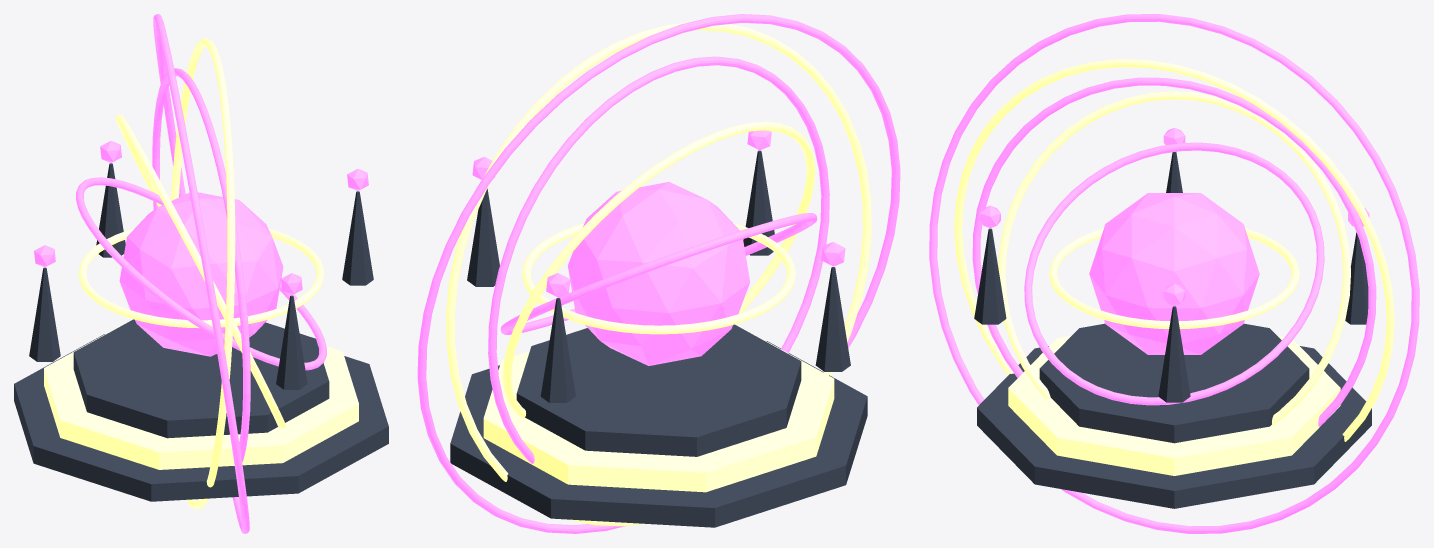
The model's file is gpu-blender-totem.glb.
3 renders of one model, left to right at view 1: azimuth 30°, elevation 25°; view 2: azimuth 150°, elevation 25°; view 3: azimuth 270°, elevation 25°, orthographic. The views are drawn at different scales.
Visible parts, largest first — view 1: Cylinder.002, Cylinder, SovereignCore_chain-of-thoughts, Cylinder.001, Torus.005, Torus.004, Torus.003, Torus.001, Torus, Torus.002, Cone, Cone.003 (+2 smaller); view 2: Cylinder.002, SovereignCore_chain-of-thoughts, Cylinder, Cylinder.001, Torus.005, Torus.004, Torus.003, Torus.002, Torus, Torus.001, Cone.002, Cone.001 (+2 smaller); view 3: SovereignCore_chain-of-thoughts, Cylinder.002, Cylinder, Cylinder.001, Torus.005, Torus.004, Torus.001, Torus.002, Torus.003, Torus, Cone, Cone.003 (+1 smaller).
Part boxes in pixels (bbox=[...]): Cylinder.002: bbox=[73, 319, 329, 438]; Cylinder: bbox=[14, 334, 388, 501]; SovereignCore_chain-of-thoughts: bbox=[119, 192, 283, 356]; Cylinder.001: bbox=[44, 326, 358, 469]; Torus.005: bbox=[153, 14, 249, 533]; Torus.004: bbox=[171, 38, 235, 509]; Torus.003: bbox=[152, 68, 250, 461]; Torus.001: bbox=[76, 177, 326, 370]; Torus: bbox=[78, 228, 324, 328]; Torus.002: bbox=[116, 115, 285, 428]; Cone: bbox=[342, 191, 373, 285]; Cone.003: bbox=[276, 295, 307, 389]; Cylinder.002: bbox=[516, 324, 801, 456]; SovereignCore_chain-of-thoughts: bbox=[568, 182, 749, 365]; Cylinder: bbox=[450, 341, 867, 527]; Cylinder.001: bbox=[483, 332, 834, 492]; Torus.005: bbox=[417, 14, 900, 533]; Torus.004: bbox=[446, 22, 871, 526]; Torus.003: bbox=[488, 56, 829, 463]; Torus.002: bbox=[502, 121, 815, 418]; Torus: bbox=[522, 223, 795, 334]; Torus.001: bbox=[500, 213, 817, 334]; Cone.002: bbox=[815, 267, 850, 371]; Cone.001: bbox=[540, 298, 575, 402]; SovereignCore_chain-of-thoughts: bbox=[1089, 193, 1259, 354]; Cylinder.002: bbox=[1039, 323, 1309, 443]; Cylinder: bbox=[977, 346, 1371, 508]; Cylinder.001: bbox=[1008, 336, 1340, 475]; Torus.005: bbox=[929, 14, 1419, 533]; Torus.004: bbox=[954, 59, 1394, 441]; Torus.001: bbox=[1024, 142, 1324, 405]; Torus.002: bbox=[998, 91, 1350, 425]; Torus.003: bbox=[972, 77, 1376, 426]; Torus: bbox=[1049, 228, 1299, 328]; Cone: bbox=[1158, 306, 1190, 402]; Cone.003: bbox=[974, 228, 1006, 324].
Size of the model in its own units: 4.41 by 5.93 by 5.46.
